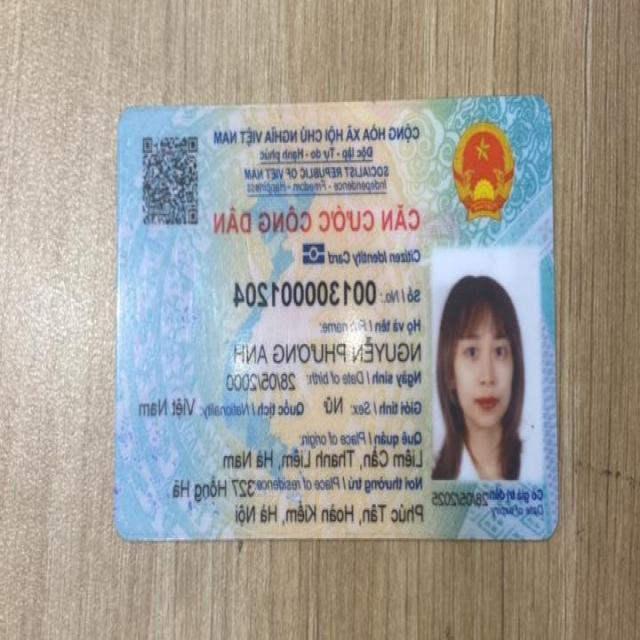bottom_left: (527, 506, 569, 550)
bottom_right: (105, 510, 142, 552)
image_person: (427, 250, 543, 481)
top_left: (523, 84, 564, 130)
top_right: (105, 94, 148, 138)
